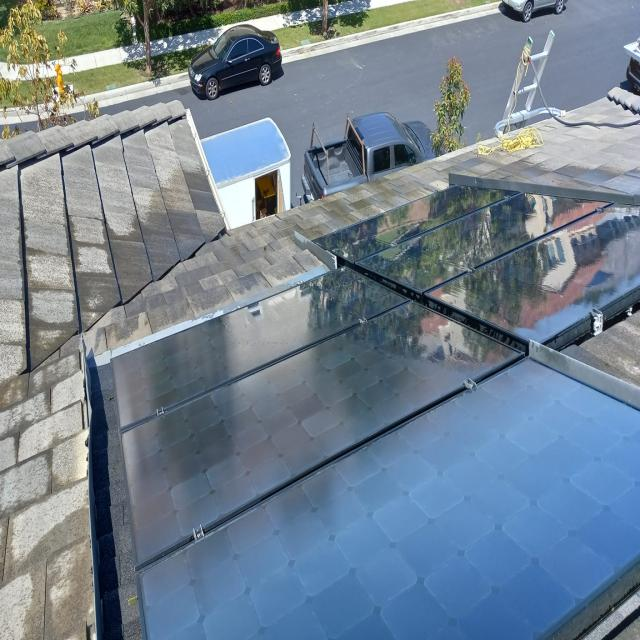clean-solar-panel: (112, 187, 640, 638)
